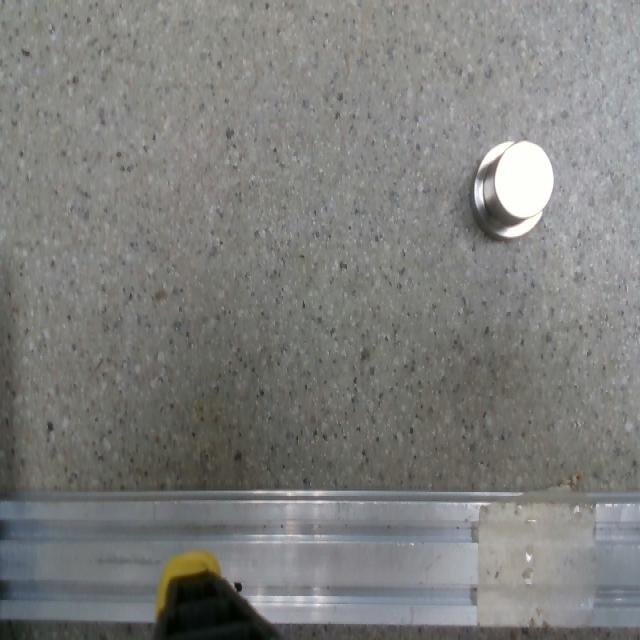sensor: (470, 137, 554, 241)
